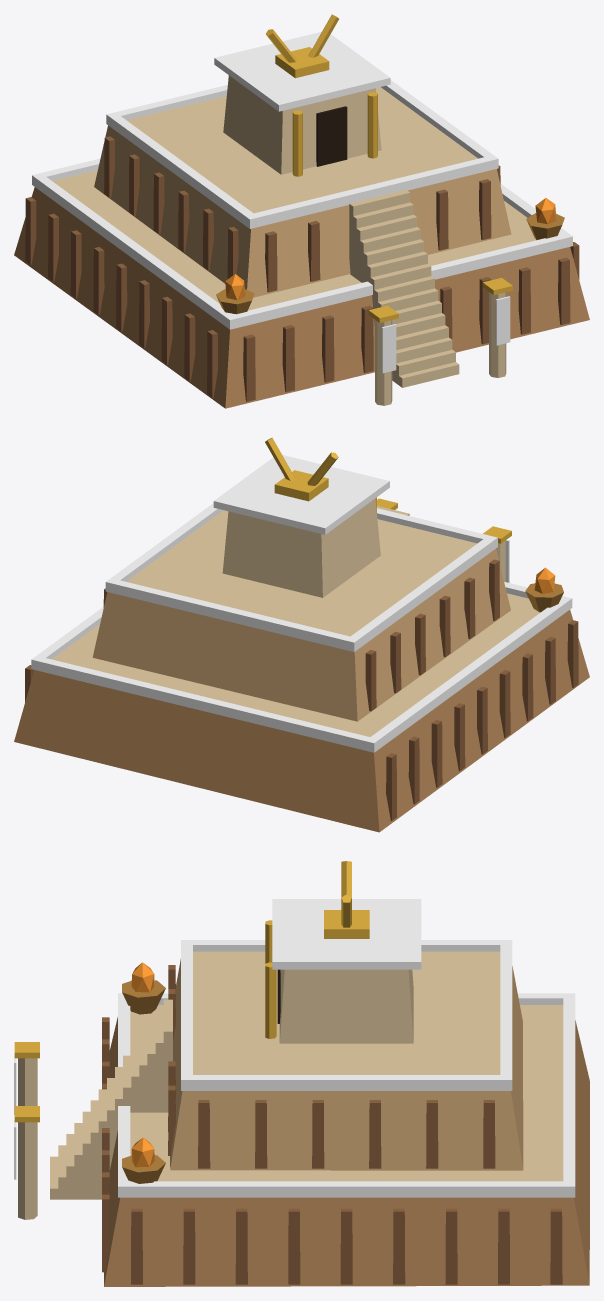
The model's file is temple_copper.glb.
3 renders of one model, top to bottom at view 1: azimuth 30°, elevation 25°; view 2: azimuth 150°, elevation 25°; view 3: azimuth 270°, elevation 25°, orthographic. The views are drawn at different scales.
Parts seen in each view (by area): view 1: part, part.032, part.049, part.027, part.069, part.070, part.028, part.029, part.050, part.051, part.071, part.053 (+53 smaller); view 2: part, part.032, part.049, part.069, part.027, part.070, part.030, part.029, part.052, part.051, part.053, part.050 (+18 smaller); view 3: part, part.032, part.049, part.027, part.069, part.070, part.031, part.053, part.030, part.052, part.084, part.051 (+37 smaller).
Boxes of the visible parts, <box> form: part: <box>14,187,589,408</box>; part.032: <box>94,125,511,297</box>; part.049: <box>127,87,477,213</box>; part.027: <box>52,170,535,310</box>; part.069: <box>223,75,381,174</box>; part.070: <box>214,31,390,111</box>; part.028: <box>224,233,572,329</box>; part.029: <box>32,173,238,329</box>; part.050: <box>244,157,491,228</box>; part.051: <box>106,112,258,228</box>; part.071: <box>316,106,347,166</box>; part.053: <box>381,80,498,170</box>; part: <box>14,609,589,832</box>; part.032: <box>92,549,510,721</box>; part.049: <box>126,510,477,636</box>; part.069: <box>222,499,380,597</box>; part.027: <box>52,593,540,736</box>; part.070: <box>213,455,389,534</box>; part.030: <box>31,655,375,752</box>; part.029: <box>365,596,572,752</box>; part.052: <box>105,578,356,651</box>; part.051: <box>345,535,497,651</box>; part.053: <box>105,503,223,593</box>; part.050: <box>377,508,497,550</box>; part: <box>104,1017,589,1286</box>; part.032: <box>170,959,523,1170</box>; part.049: <box>193,951,500,1074</box>; part.027: <box>130,1005,563,1181</box>; part.069: <box>279,969,413,1043</box>; part.070: <box>272,899,421,969</box>; part.031: <box>118,1181,574,1197</box>; part.053: <box>181,1075,505,1090</box>; part.030: <box>563,993,575,1197</box>; part.052: <box>500,940,512,1090</box>; part.084: <box>18,1122,37,1219</box>; part.051: <box>193,940,512,951</box>.
Bounding box in the file's own units: 8.05 × 5.57 × 9.47.
